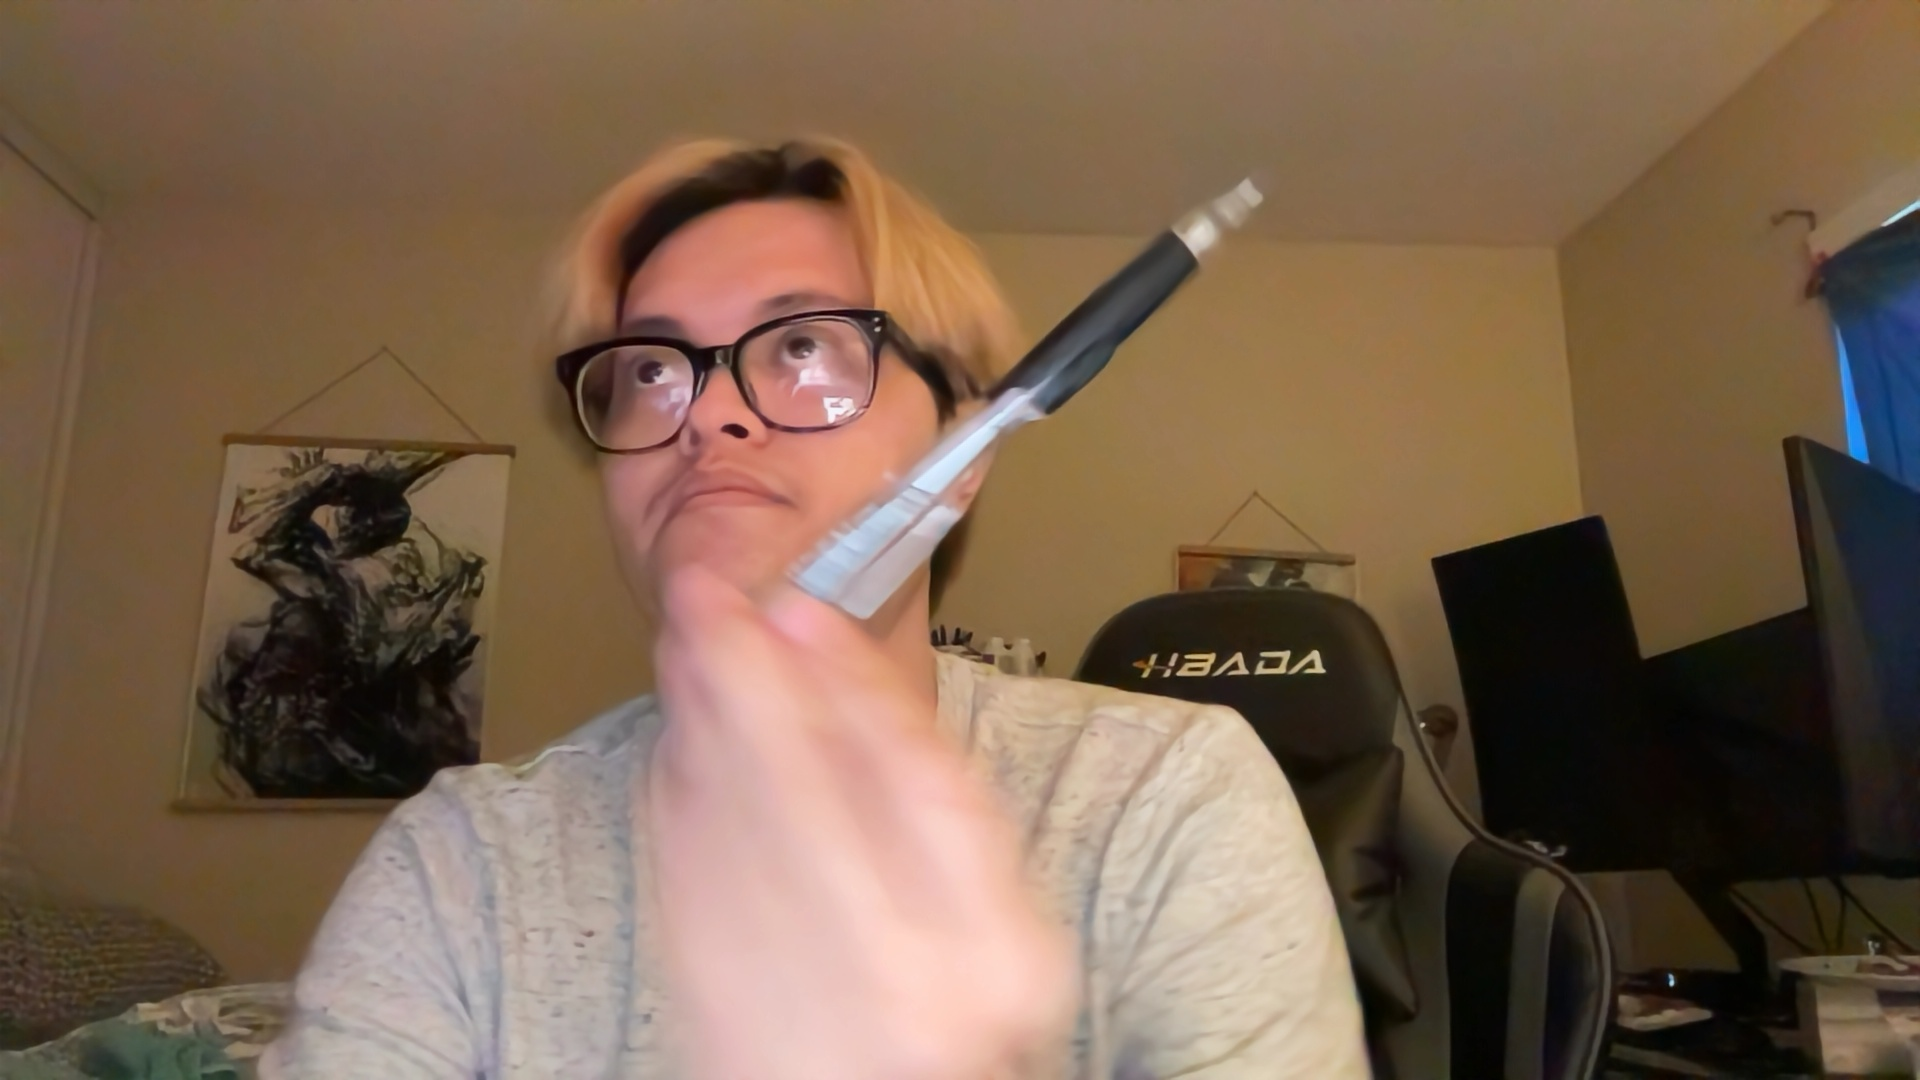pencil: (781, 145, 1273, 620)
